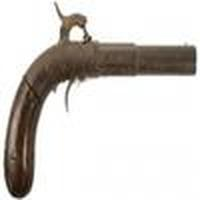gun: (3, 13, 195, 196)
